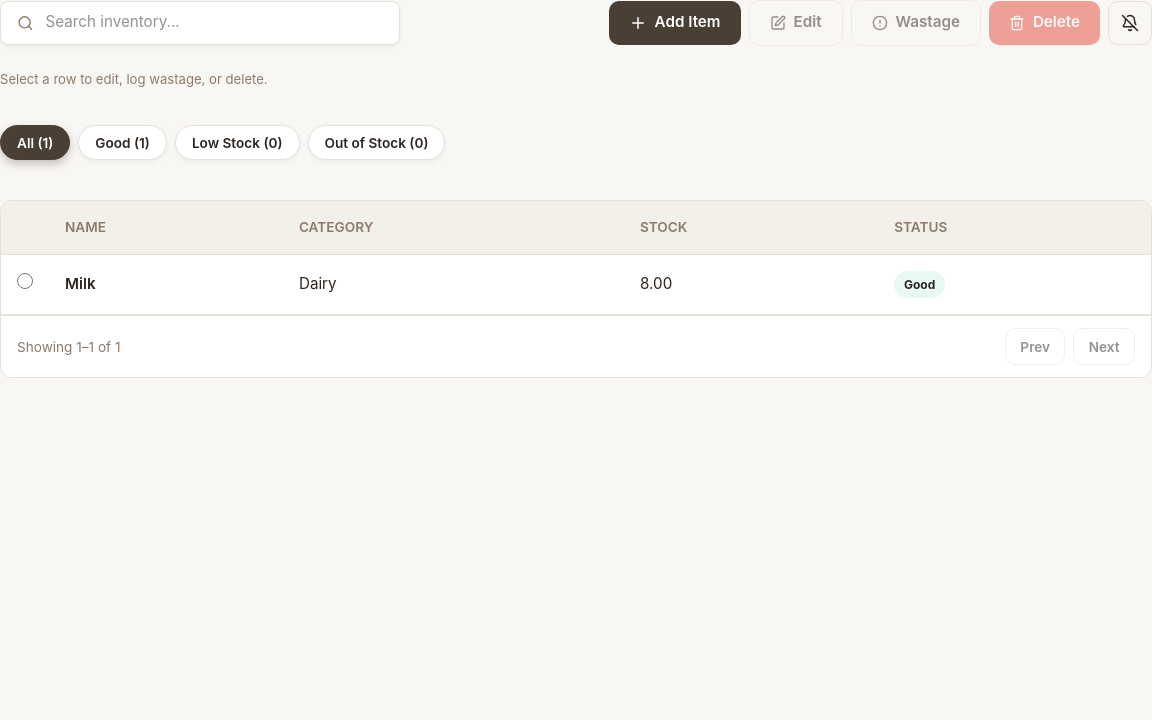
InventoryPage roles › should ask for confirmation before deleting, and cancel without deleting
The width and height of the screenshot is (1152, 720).
Expected: the text "Milk" is shown, [49,254,283,315]
Click the radio button with test id "select-item-i1" at coordinates (25, 281), box [17,273,33,289]
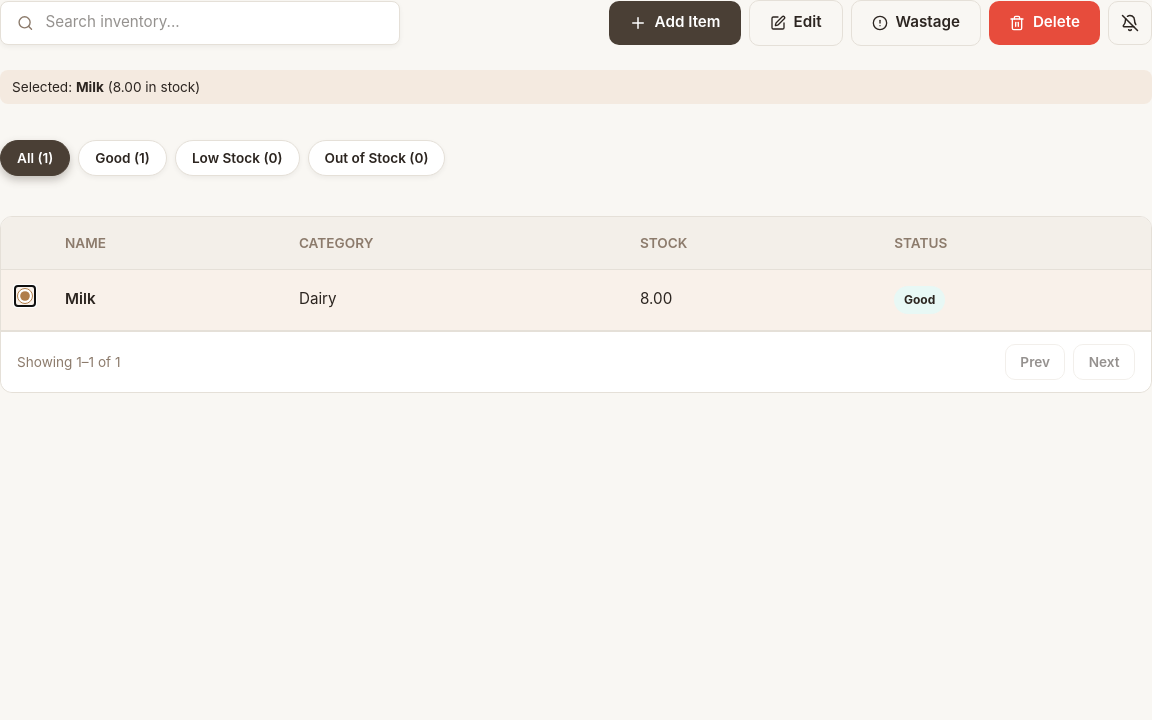
Click the button with test id "toolbar-delete-btn" at coordinates (1044, 23), box [989,1,1100,45]
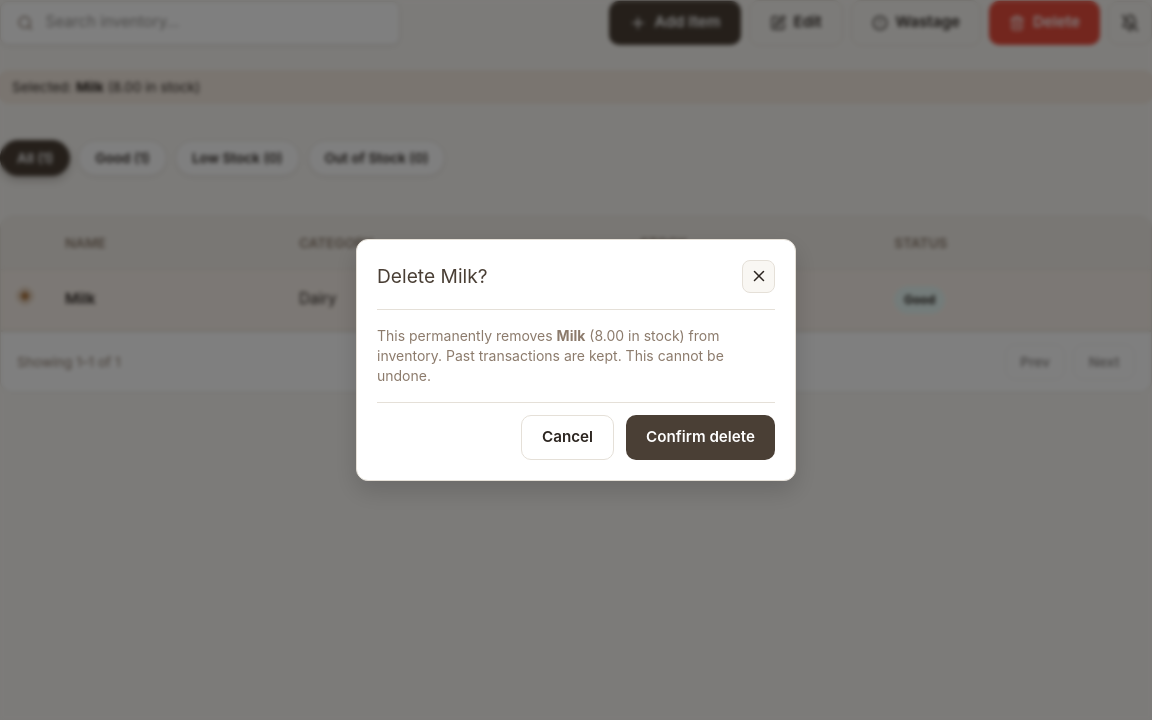
Expected: the dialog with test id "delete-confirm-modal" shows "Delete Milk?", [356,239,796,481]
Click the button with test id "delete-cancel-btn" at coordinates (568, 437), box [521,415,614,460]
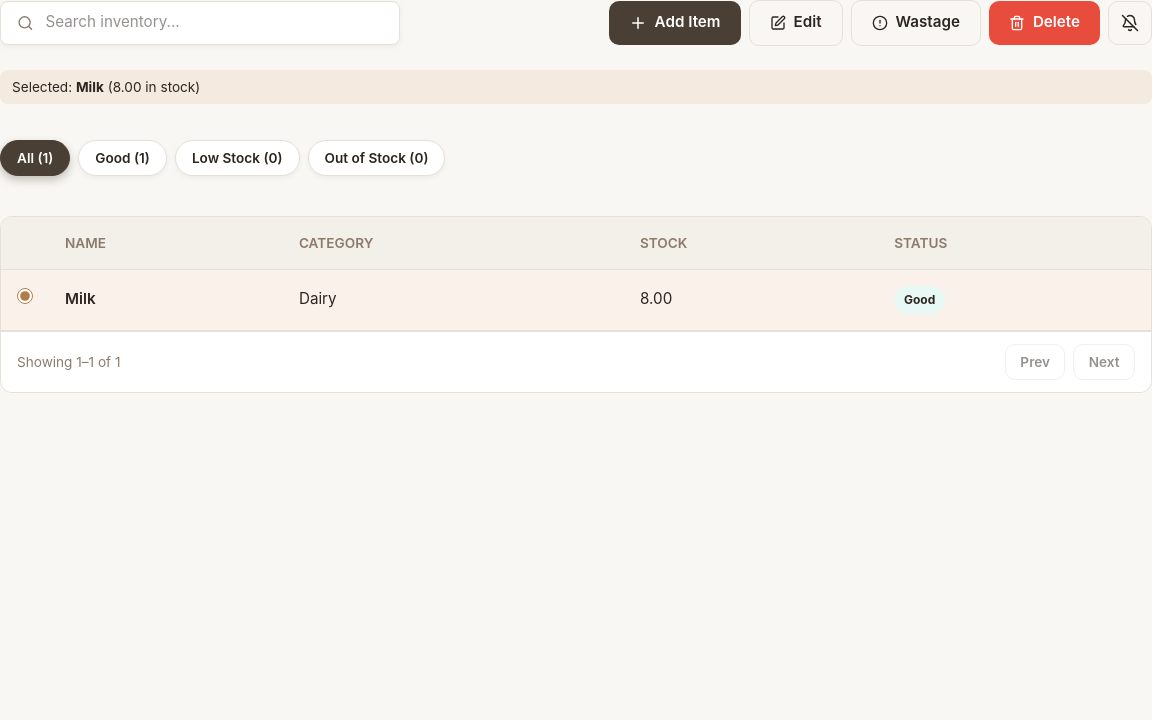
Expected: the dialog with test id "delete-confirm-modal" is gone
